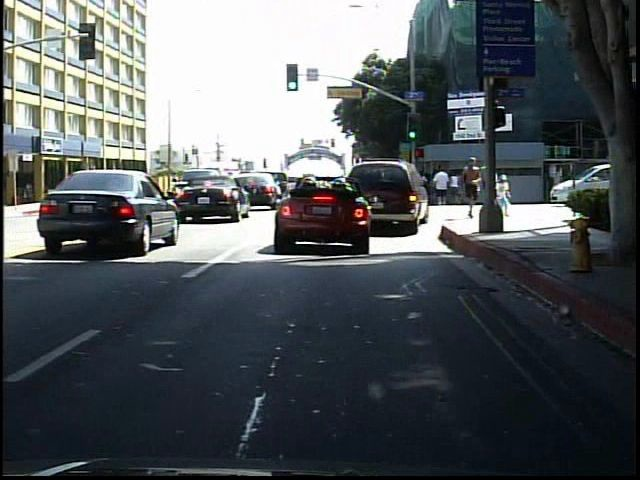person: (459, 155, 483, 222), (490, 173, 513, 216), (113, 174, 132, 204)
